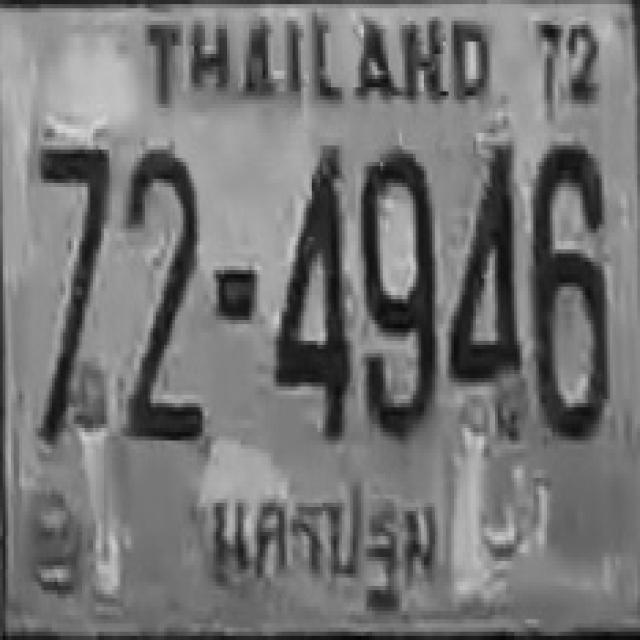2: (120, 148, 200, 442), (123, 143, 200, 418)
4: (274, 142, 350, 436), (447, 142, 521, 436)
6: (529, 142, 609, 436)
7: (36, 141, 110, 445)
9: (358, 146, 435, 437)
NakhonPathom: (201, 474, 450, 589)
